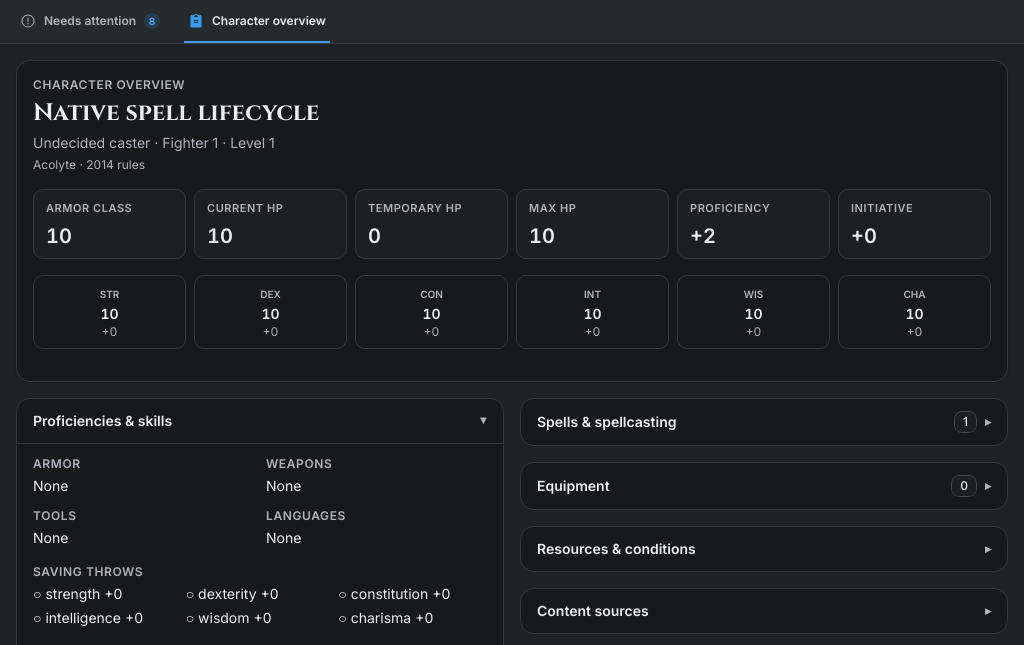
Scenario: unselected ability remains explicitly unknown despite numeric effects
This screenshot has width=1024, height=645.
Click the text "Spells & spellcasting".
click(607, 422)  # box [537,412,676,432]
(page scrolled)
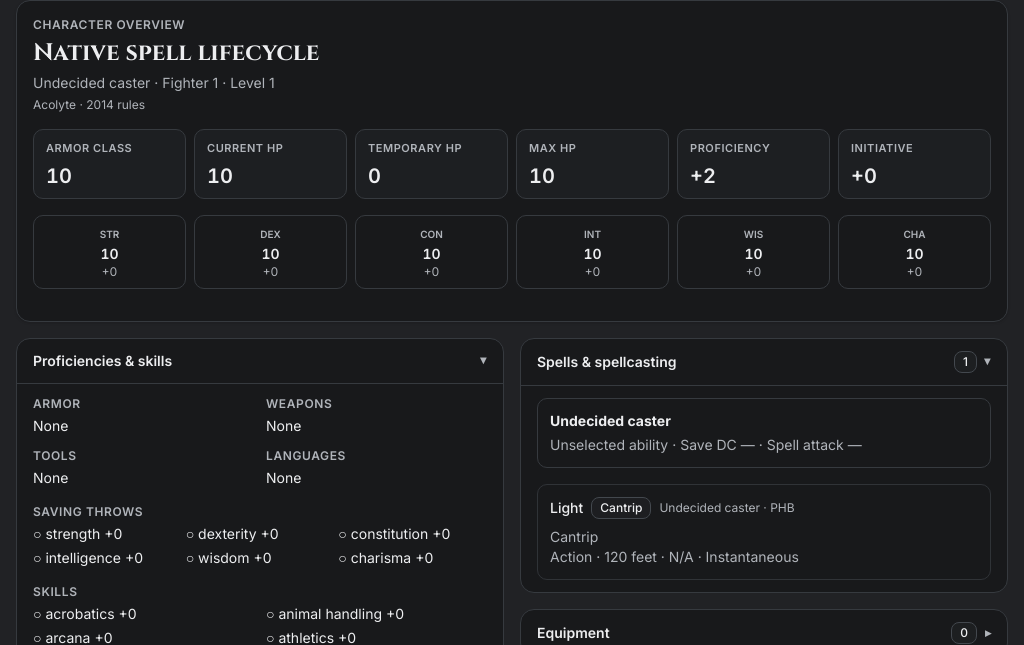
Result: the text "Unselected ability · Save DC — · Spell attack —" is shown at [550,436,862,453]
